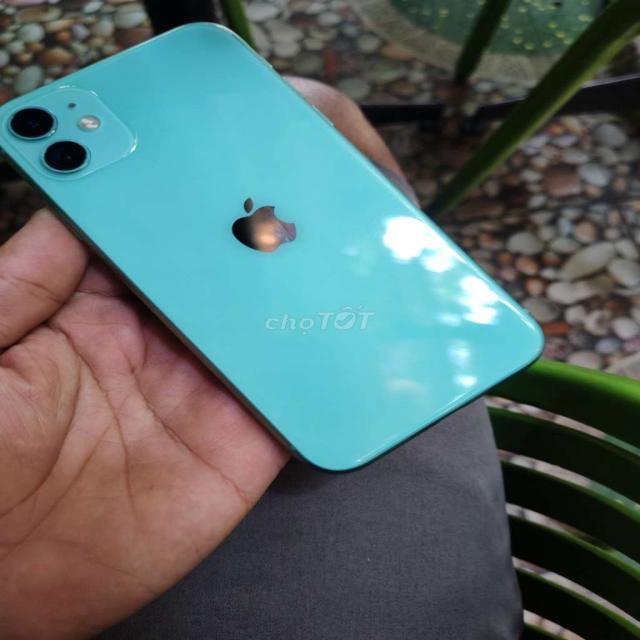gen_11: (0, 22, 542, 471)
